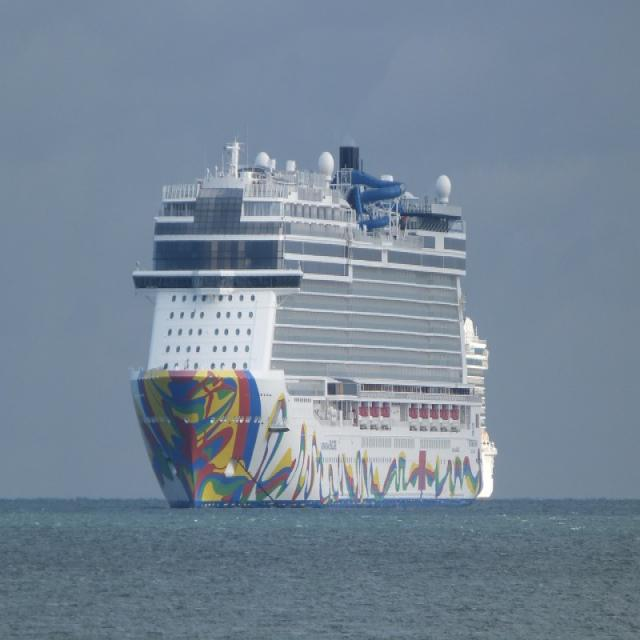cruises: (123, 124, 507, 514)
